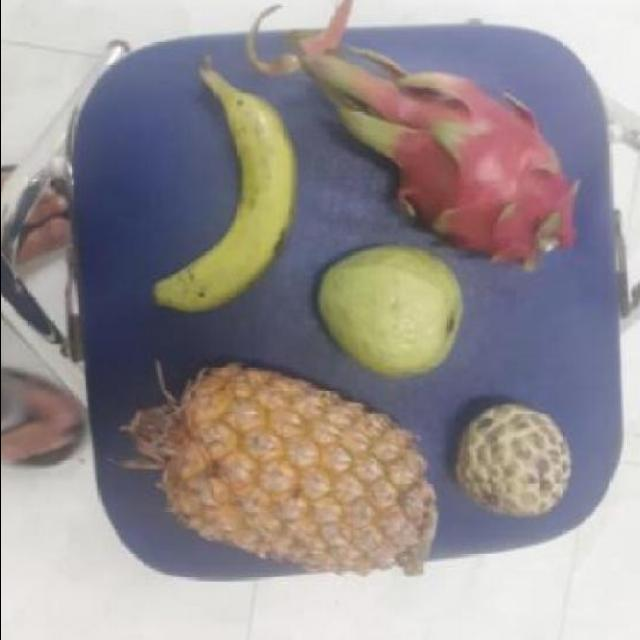banana: (152, 63, 298, 313)
dragon fruit: (384, 67, 570, 266)
guava: (318, 239, 462, 377)
pineapple: (158, 366, 434, 568)
sugar apple: (457, 398, 570, 518)
